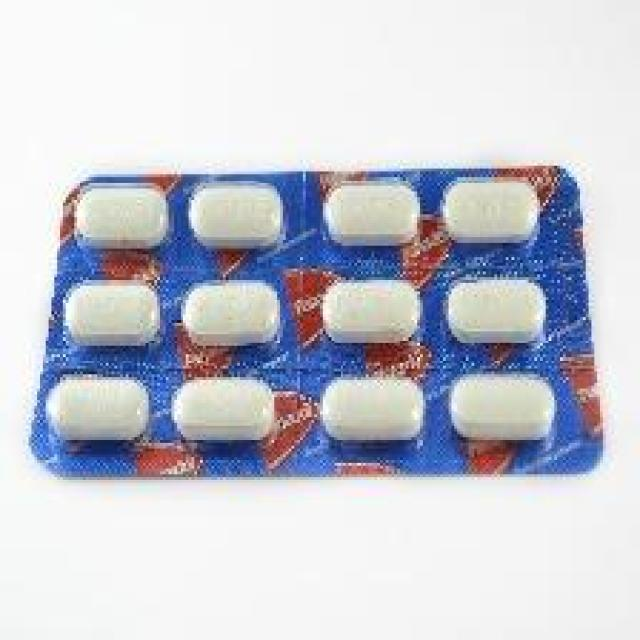Medicine: (39, 172, 616, 491)
